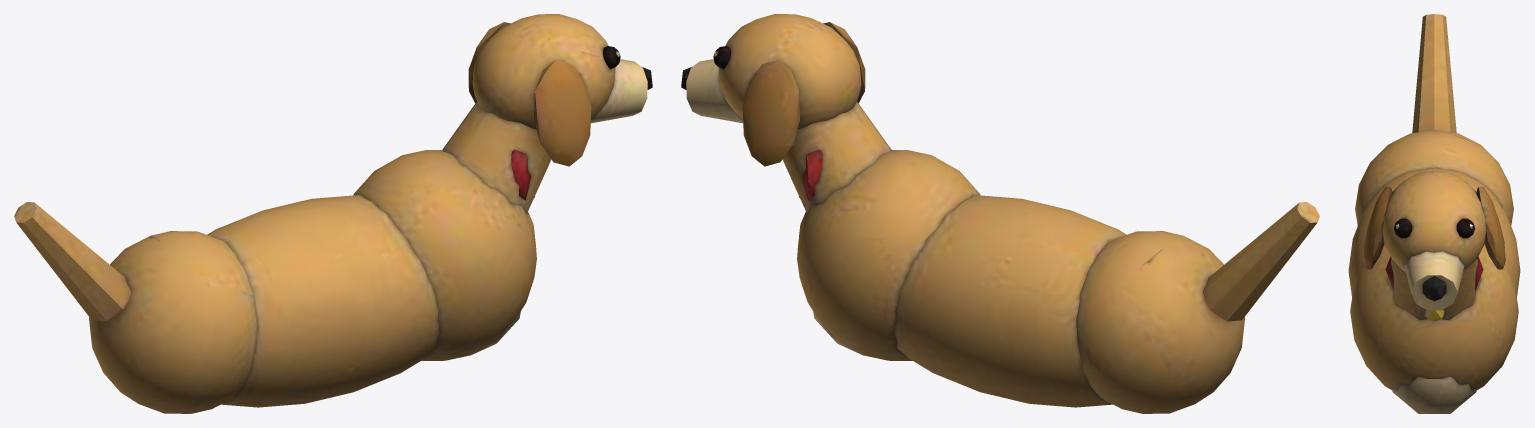
The model's file is perro.glb.
The picture shows the model from 3 angles, left to right: view 1: azimuth 30°, elevation 25°; view 2: azimuth 150°, elevation 25°; view 3: azimuth 270°, elevation 25°; orthographic projection. The views are drawn at different scales.
Parts seen in each view (by area): view 1: perro; view 2: perro; view 3: perro.
Part boxes in pixels (x1,y1,x2,y2): perro: (14,14,652,413); perro: (681,14,1319,413); perro: (1348,14,1520,413).
Bounding box in the file's own units: 1.35 × 0.638 × 0.368.
1 material, 1 textured.
